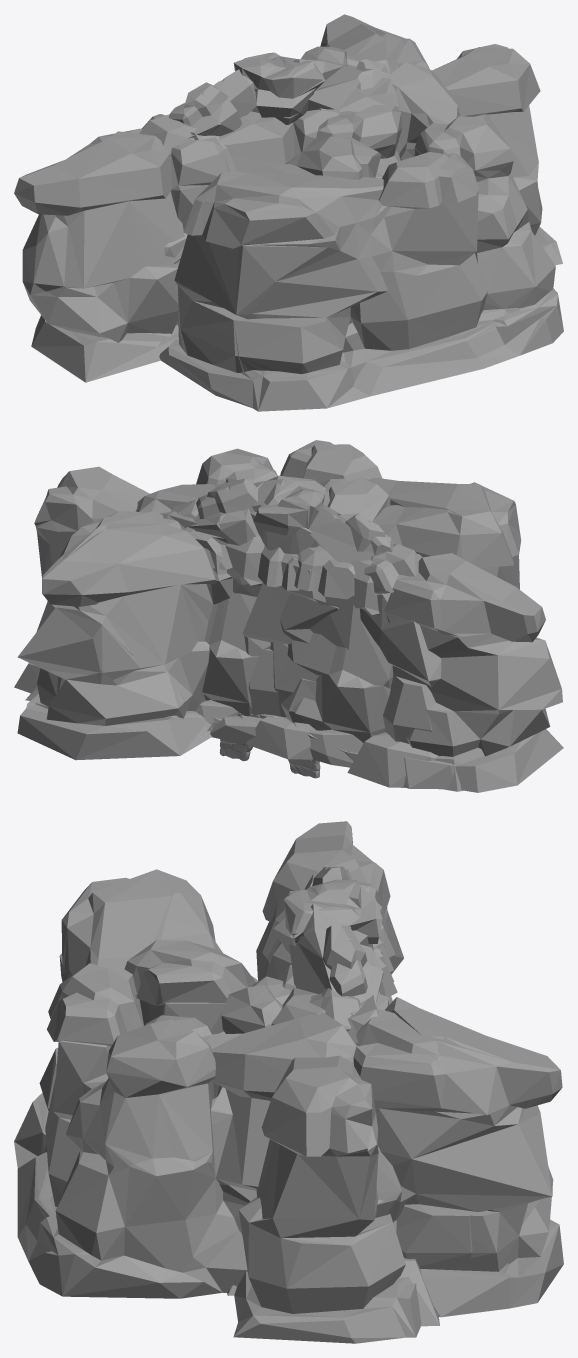
Rendered from cego_decorative.fbx.
3 views of the same model, one above another, from view 1: azimuth 30°, elevation 25°; view 2: azimuth 150°, elevation 25°; view 3: azimuth 270°, elevation 25° (orthographic). The views are drawn at different scales.
Visible parts, largest first — view 1: cego_natrock.bend.hard, cego_natrock.wall.long, cego_natrock.bend.soft, cego_natrock.arch, cego_natrock.wall2, cego_natrock.wall1; view 2: cego_natrock.wall.long, cego_natrock.bend.soft, cego_natrock.arch, cego_natrock.bend.hard, cego_natrock.wall2, cego_natrock.wall1, cego_natrock.column, cego_bridge.stone; view 3: cego_natrock.bend.hard, cego_natrock.wall.long, cego_natrock.bend.soft, cego_natrock.arch, cego_natrock.wall1, cego_natrock.wall2.
Boxes of the visible parts, <box> form: cego_natrock.bend.hard: <box>191,14,563,411</box>; cego_natrock.wall.long: <box>14,44,562,382</box>; cego_natrock.bend.soft: <box>159,14,402,411</box>; cego_natrock.arch: <box>98,46,390,341</box>; cego_natrock.wall2: <box>219,108,340,171</box>; cego_natrock.wall1: <box>338,78,399,140</box>; cego_natrock.wall.long: <box>14,466,563,792</box>; cego_natrock.bend.soft: <box>17,477,519,760</box>; cego_natrock.arch: <box>25,475,484,791</box>; cego_natrock.bend.hard: <box>17,440,521,717</box>; cego_natrock.wall2: <box>196,534,338,759</box>; cego_natrock.wall1: <box>190,500,363,767</box>; cego_natrock.column: <box>210,545,299,744</box>; cego_bridge.stone: <box>219,712,320,778</box>; cego_natrock.bend.hard: <box>14,869,562,1314</box>; cego_natrock.wall.long: <box>227,821,421,1343</box>; cego_natrock.bend.soft: <box>14,869,563,1317</box>; cego_natrock.arch: <box>273,866,439,1326</box>; cego_natrock.wall1: <box>271,923,395,1025</box>; cego_natrock.wall2: <box>265,941,385,995</box>.
Size of what is drawn, in the model's own units: 42.26 by 20.52 by 31.39.
1 material, 1 textured.
